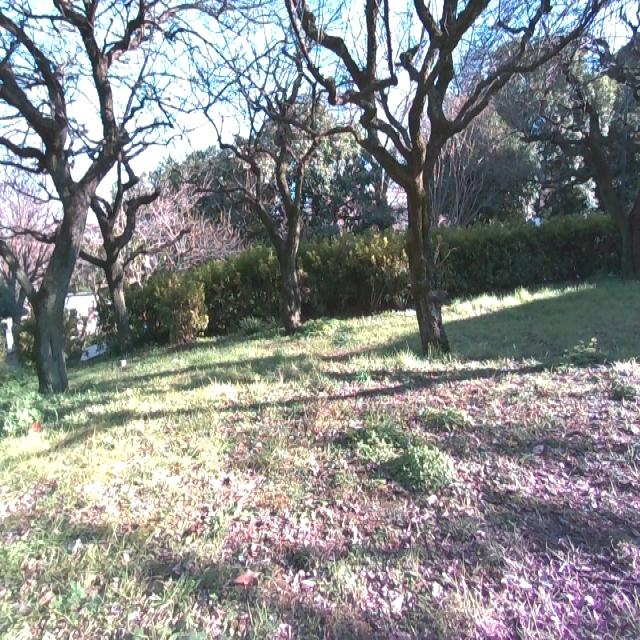bush: (153, 200, 640, 348)
tree: (278, 0, 578, 354), (0, 0, 179, 413), (217, 35, 339, 334), (81, 177, 160, 345)
